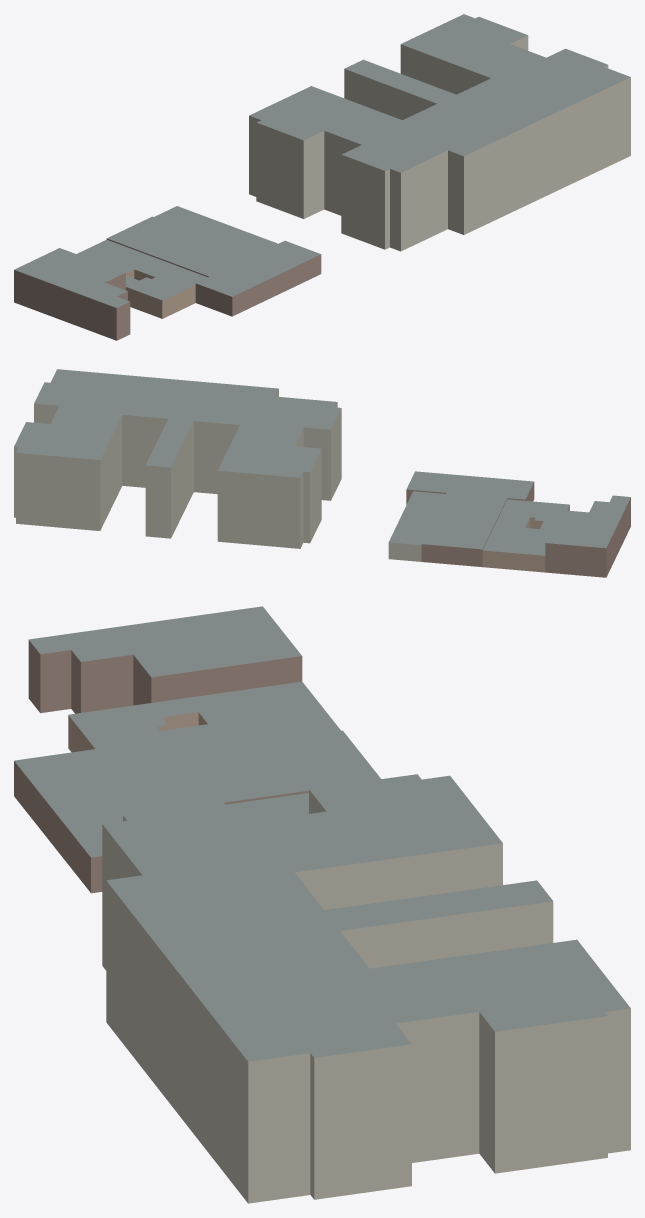
File: context-2--1.gltf
3 renders of one model, top to bottom at view 1: azimuth 30°, elevation 25°; view 2: azimuth 150°, elevation 25°; view 3: azimuth 270°, elevation 25°, orthographic. The views are drawn at different scales.
Visible parts, largest first — view 1: context-2--1; view 2: context-2--1; view 3: context-2--1.
Part boxes in pixels (<box>): context-2--1: <box>14,14,630,340</box>; context-2--1: <box>14,369,630,577</box>; context-2--1: <box>14,606,630,1203</box>.
Bounding box in the file's own units: 156 × 19.12 × 75.37.
